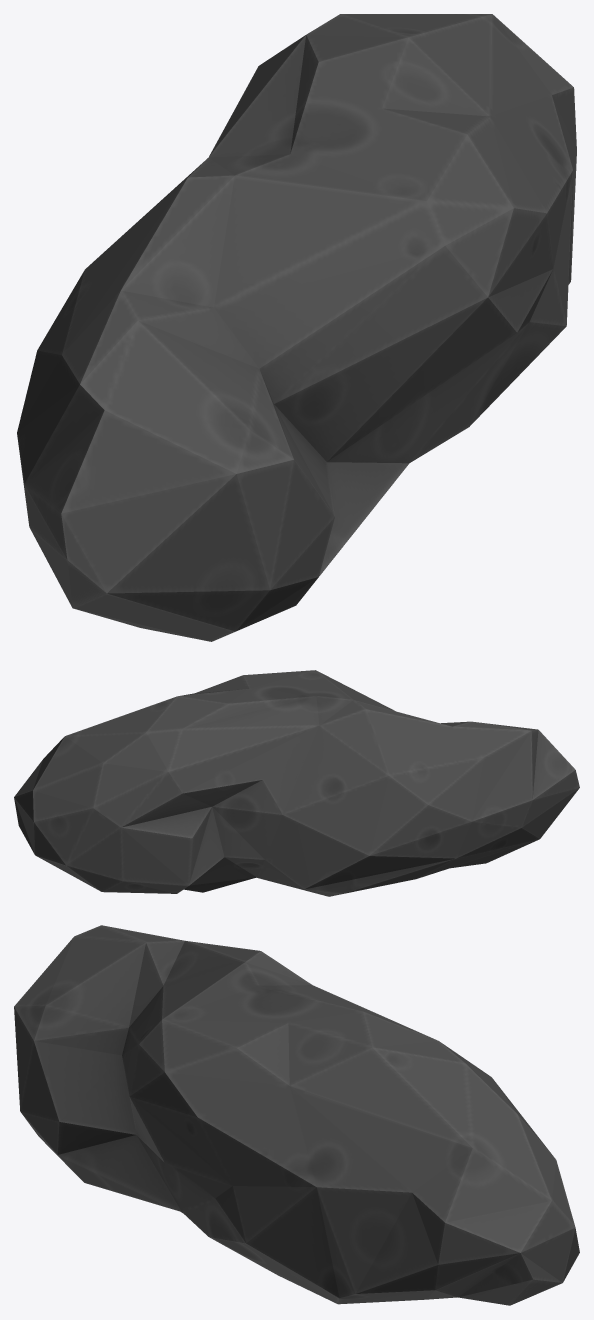
Rendered from rock_5.obj.
The picture shows the model from 3 angles, top to bottom: view 1: azimuth 30°, elevation 25°; view 2: azimuth 150°, elevation 25°; view 3: azimuth 270°, elevation 25°; orthographic projection. The views are drawn at different scales.
Parts seen in each view (by area): view 1: Asteroids_Mesh.005; view 2: Asteroids_Mesh.005; view 3: Asteroids_Mesh.005.
Part boxes in pixels (bbox=[...]): Asteroids_Mesh.005: bbox=[17, 14, 576, 641]; Asteroids_Mesh.005: bbox=[14, 670, 579, 896]; Asteroids_Mesh.005: bbox=[14, 925, 579, 1305].
Size of the model in its own units: 6.18 by 2.79 by 5.34.
